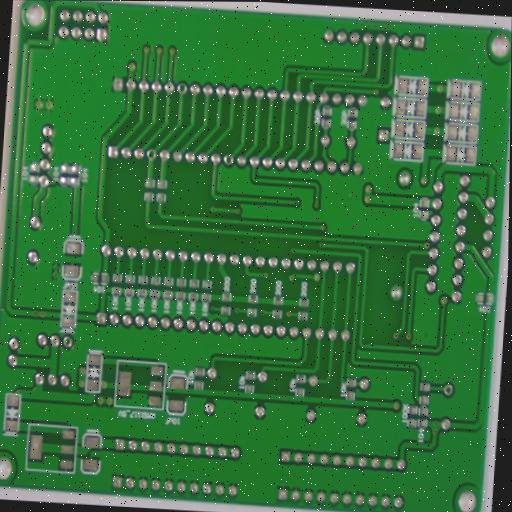missing_hole: (443, 381, 456, 399), (61, 333, 75, 349), (176, 80, 189, 95), (145, 147, 157, 163), (223, 152, 235, 168)
